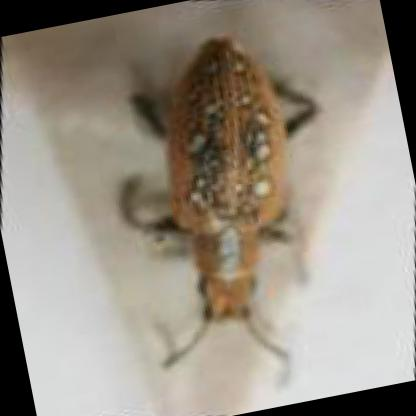ash weevil: (169, 36, 288, 325)
